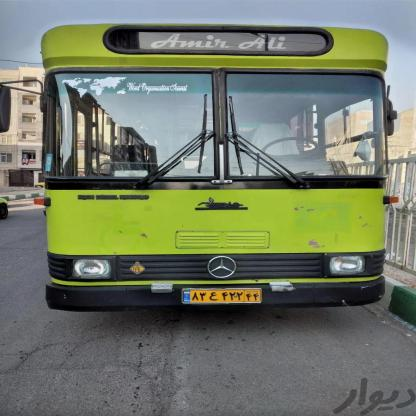Bus: (27, 17, 408, 312)
